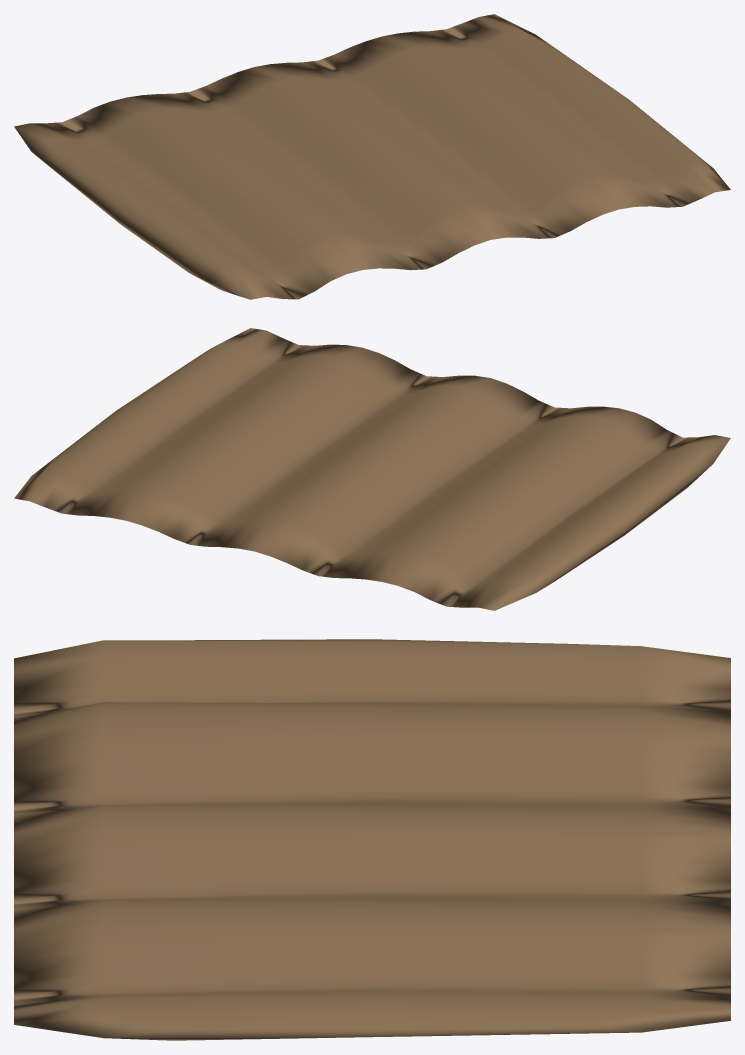
The model's file is Feeld_1.fbx.
3 renders of one model, top to bottom at view 1: azimuth 30°, elevation 25°; view 2: azimuth 150°, elevation 25°; view 3: azimuth 270°, elevation 25°, orthographic. The views are drawn at different scales.
Visible parts, largest first — view 1: one; view 2: one; view 3: one.
Boxes of the visible parts, x1=… form: one: x1=14, y1=14, x2=730, y2=299; one: x1=14, y1=328, x2=730, y2=610; one: x1=14, y1=639, x2=730, y2=1040.
Size of the model in its own units: 5030 by 294 by 4020.
